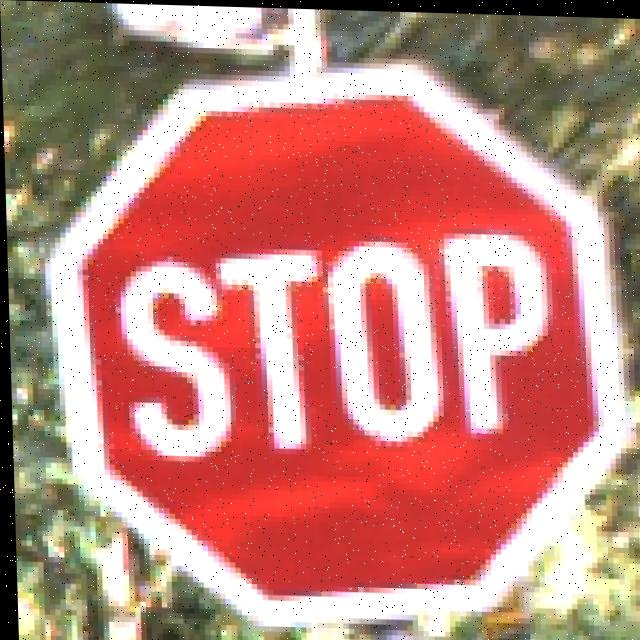stop: (34, 57, 640, 609)
